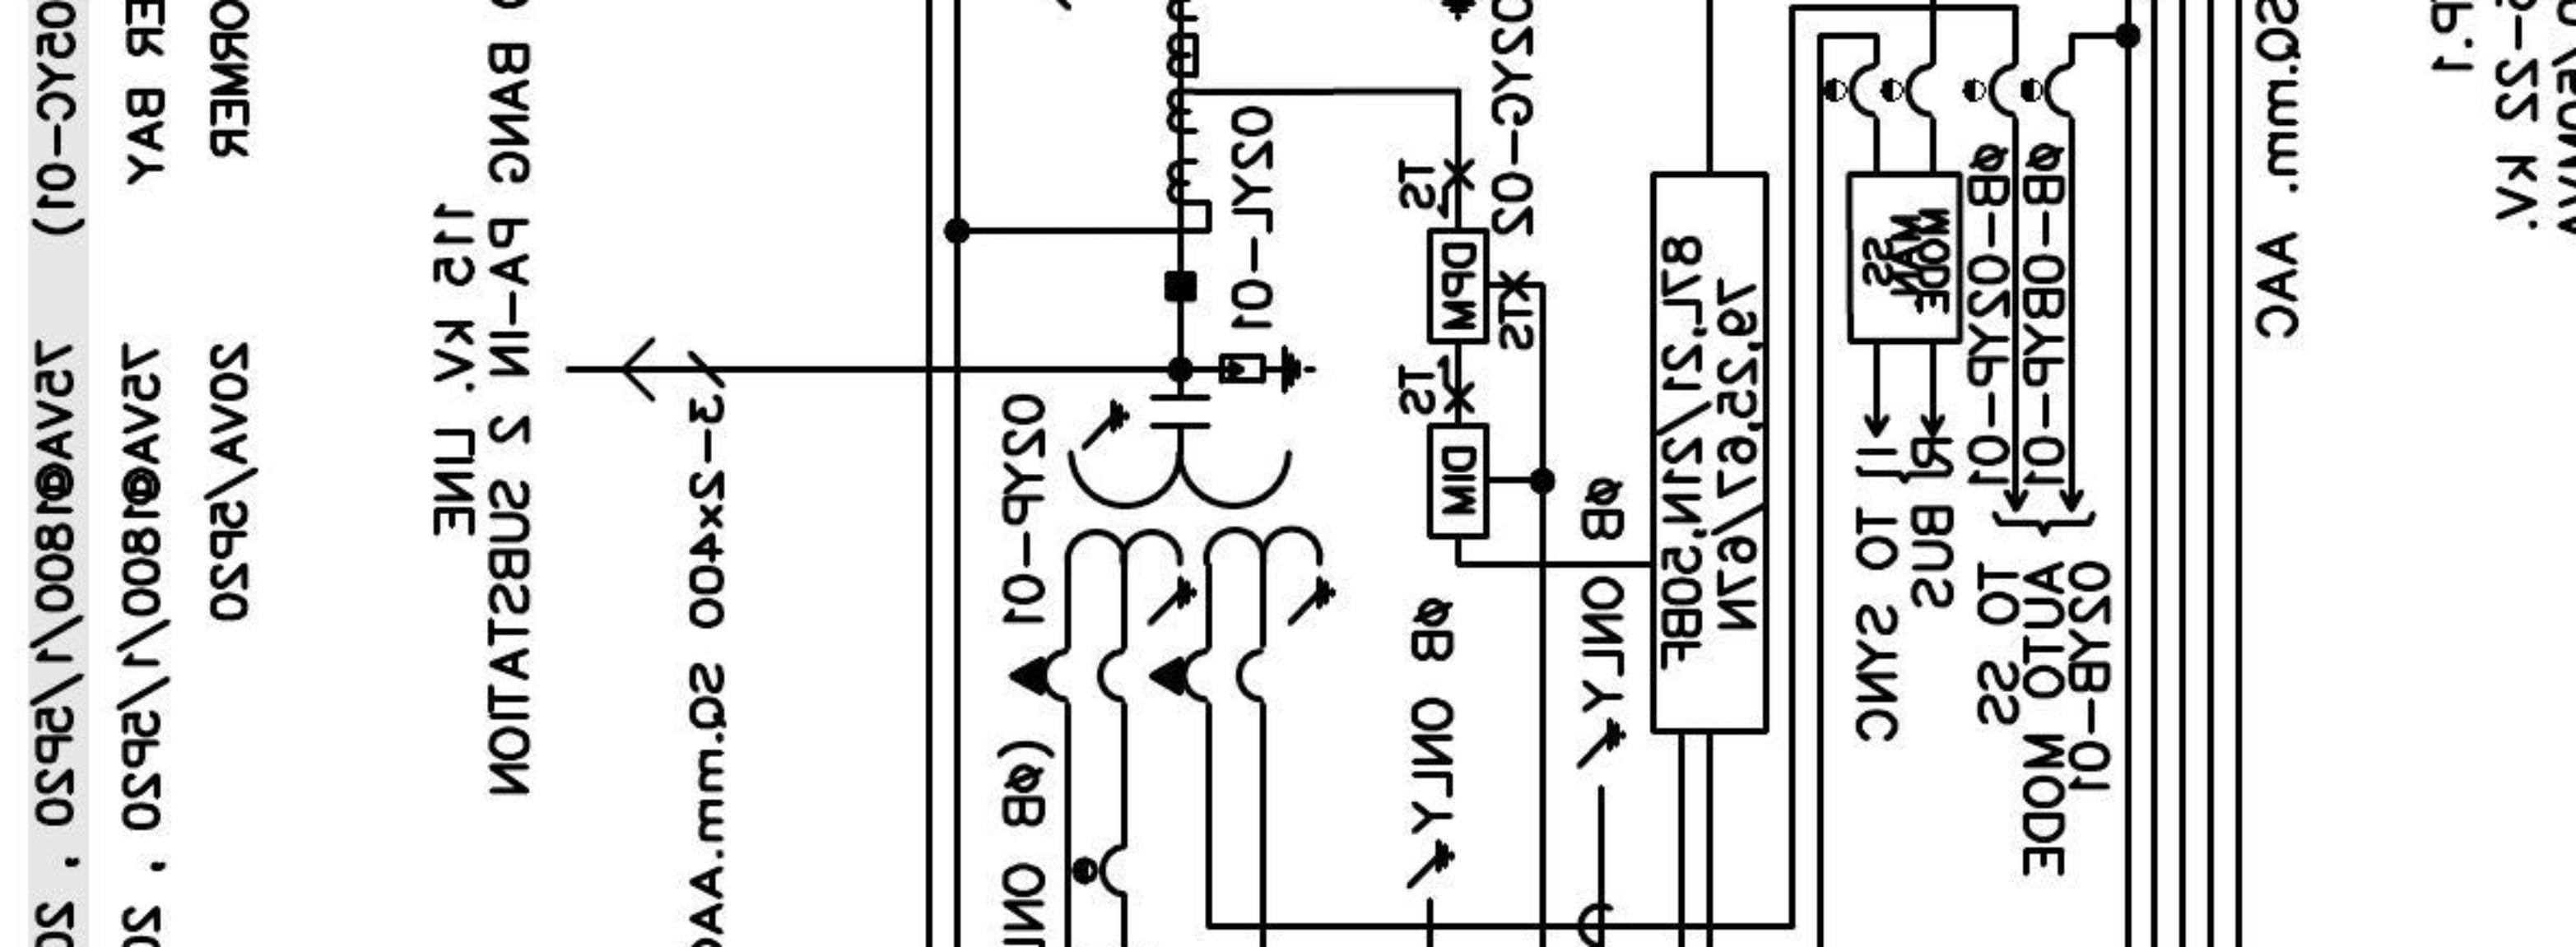115_cvt_1p: (1007, 392, 1338, 708)
115_la: (1218, 343, 1318, 396)
DIM: (1426, 422, 1490, 541)
DPM: (1426, 227, 1490, 345)
ss_man_mode: (1844, 170, 1964, 346)
